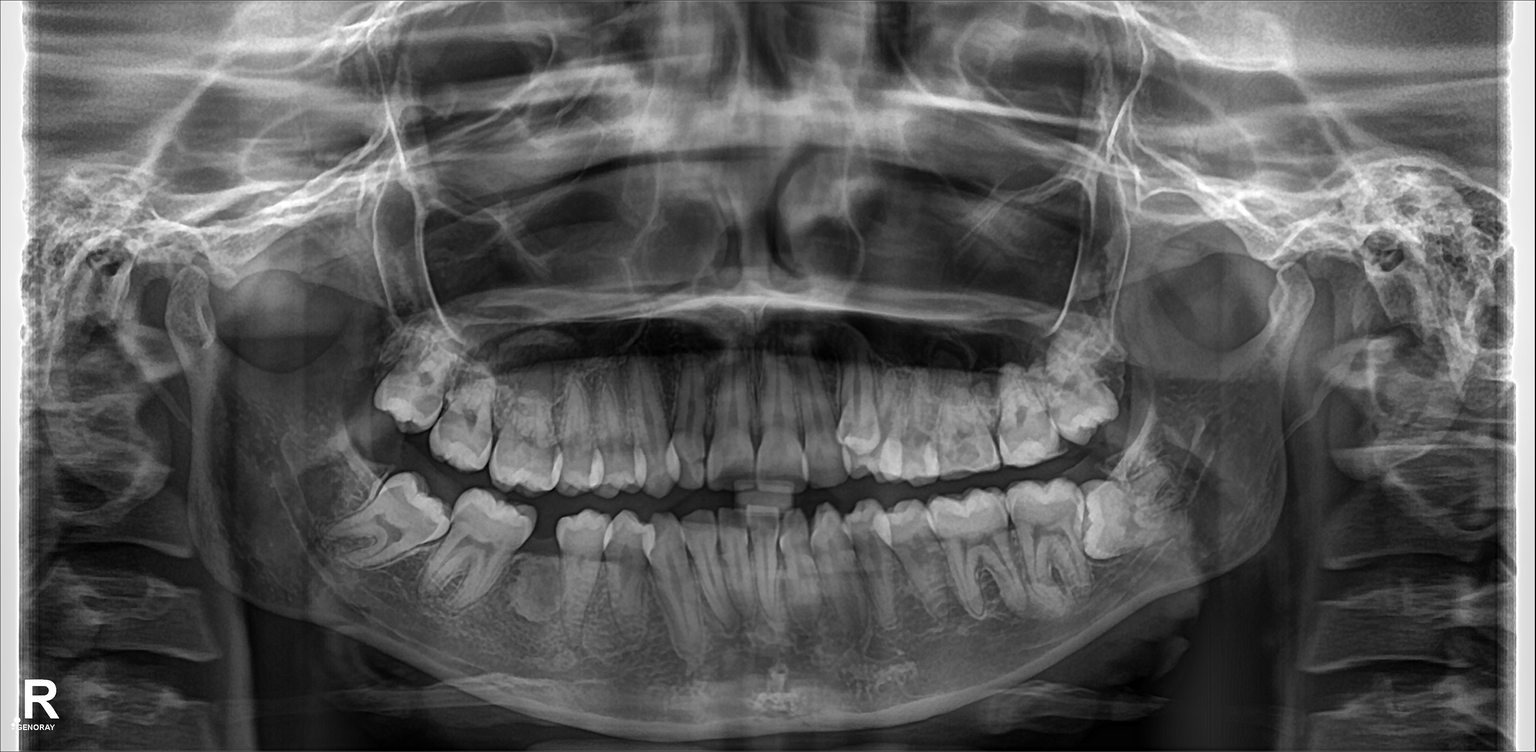Impacted Third Molar: (335, 478, 447, 566), (1086, 482, 1192, 554)
Missing Tooth: (529, 521, 563, 615)
